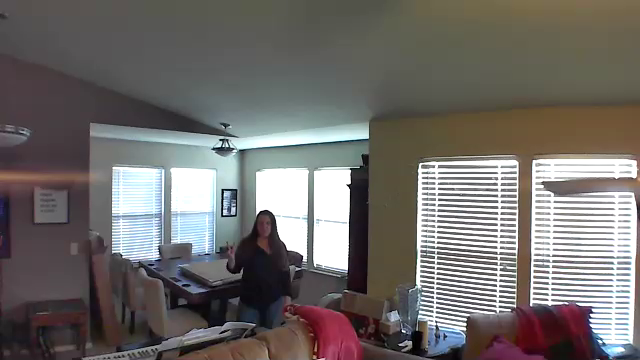peace: (219, 234, 243, 264)
